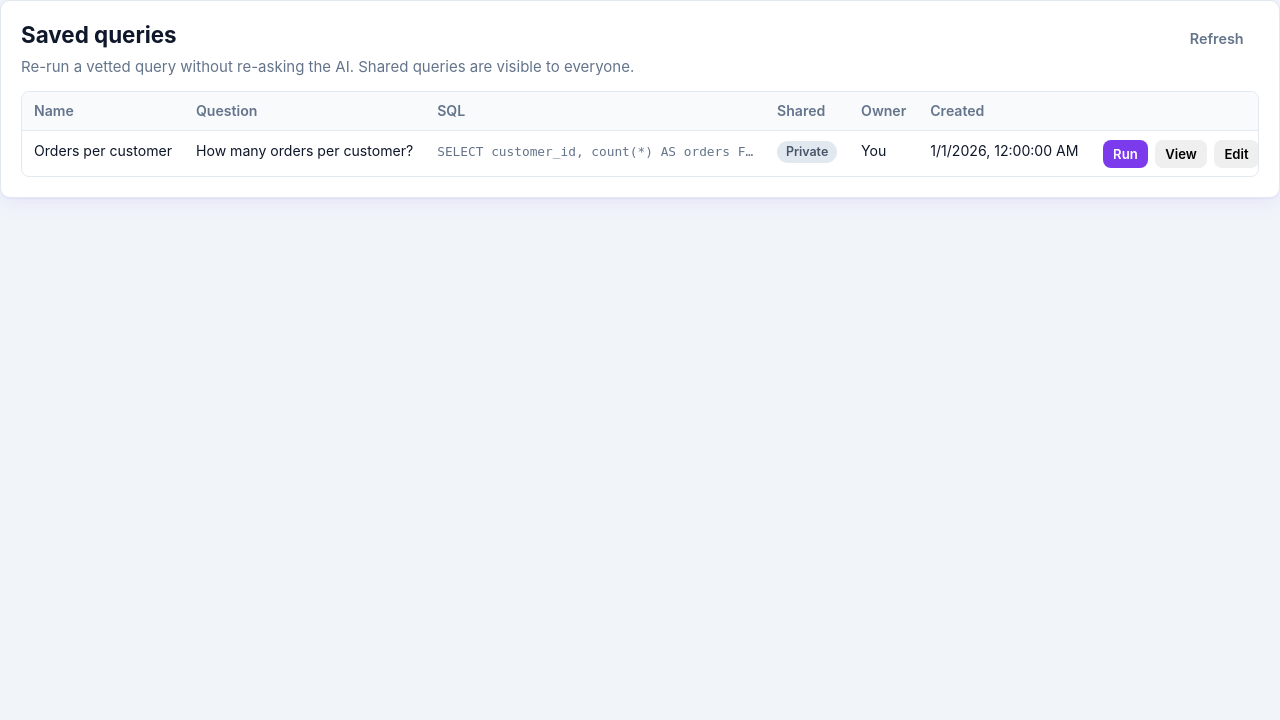
Test case: SavedQueriesPage › shows the full SQL of a saved query in the detail panel
Expected: the text "SELECT customer_id, count(*) AS orders F…" is shown, [437, 144, 753, 159]
…but "View" opens a panel with the complete statement.
Click the button "View" at (1181, 154), box [1155, 140, 1207, 168]
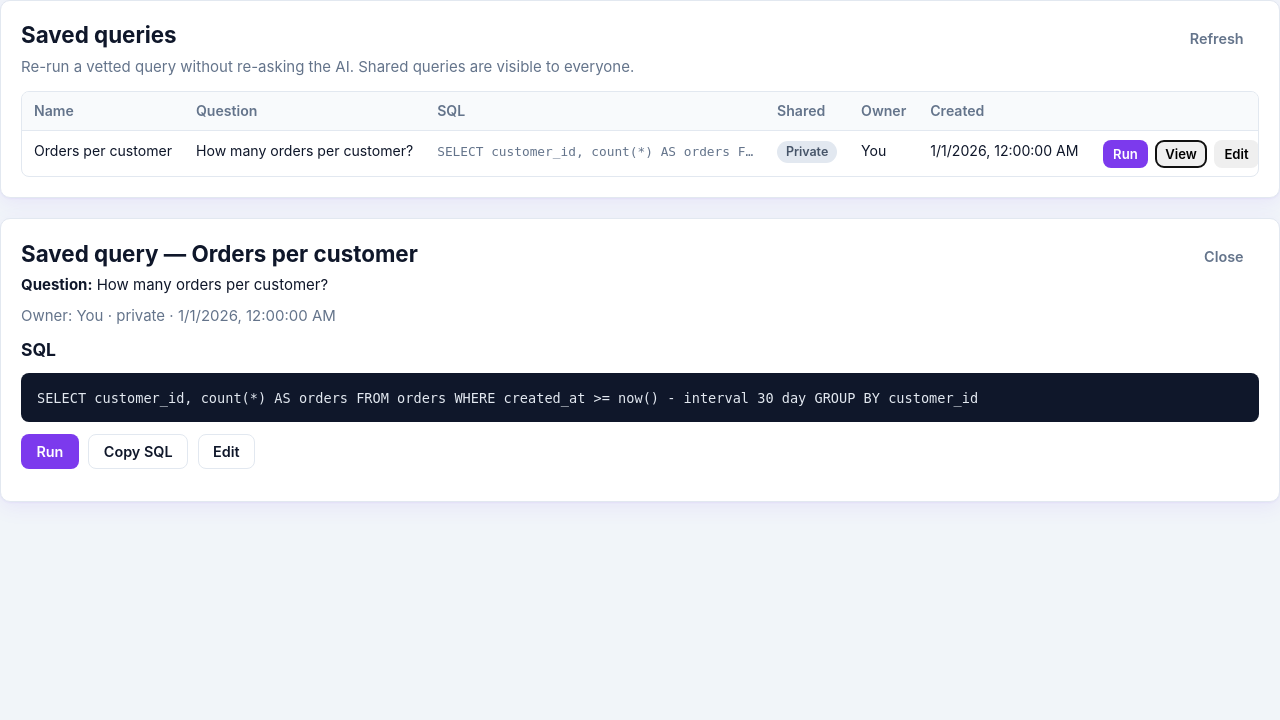
Now the text "SELECT customer_id, count(*) AS orders FROM orders WHERE created_at >= now() - interval 30 day GROUP BY customer_id" is shown, box [37, 390, 978, 406]
